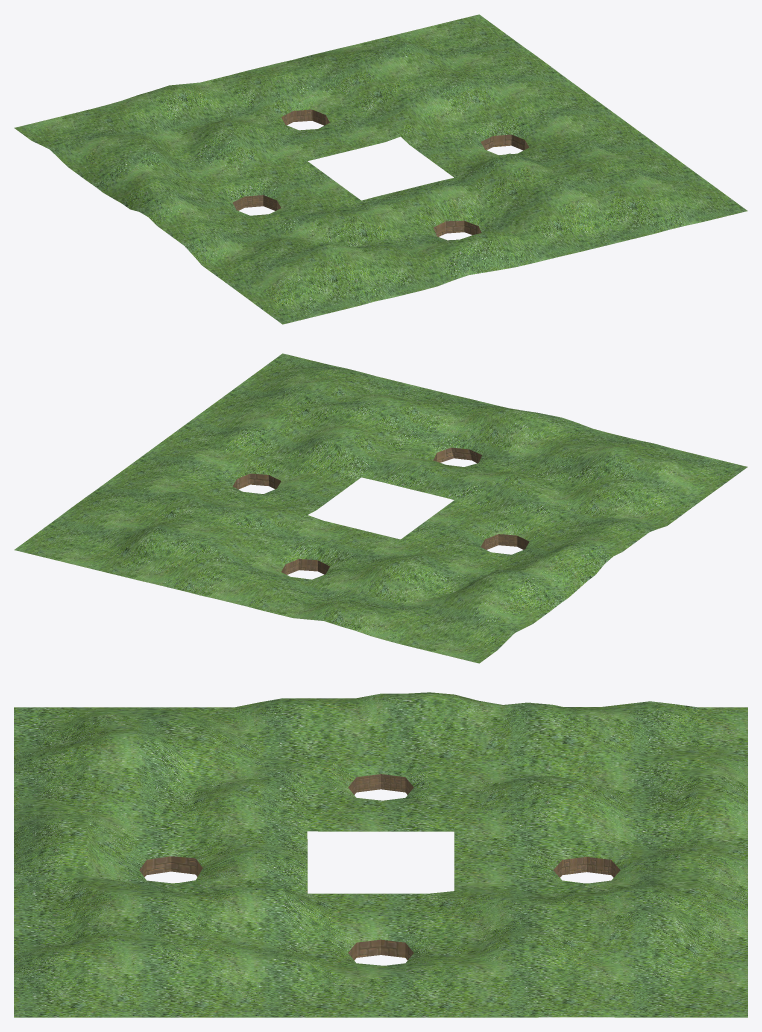
The model's file is Pry_Ground.fbx.
3 renders of one model, top to bottom at view 1: azimuth 30°, elevation 25°; view 2: azimuth 150°, elevation 25°; view 3: azimuth 270°, elevation 25°, orthographic. The views are drawn at different scales.
Visible parts, largest first — view 1: Pry_Ground; view 2: Pry_Ground; view 3: Pry_Ground.
Boxes of the visible parts, x1,y1,x2,y2 form: Pry_Ground: (14, 14, 747, 324); Pry_Ground: (14, 353, 747, 663); Pry_Ground: (14, 692, 747, 1017).
Bounding box in the file's own units: 13020 × 1110 × 13020.
